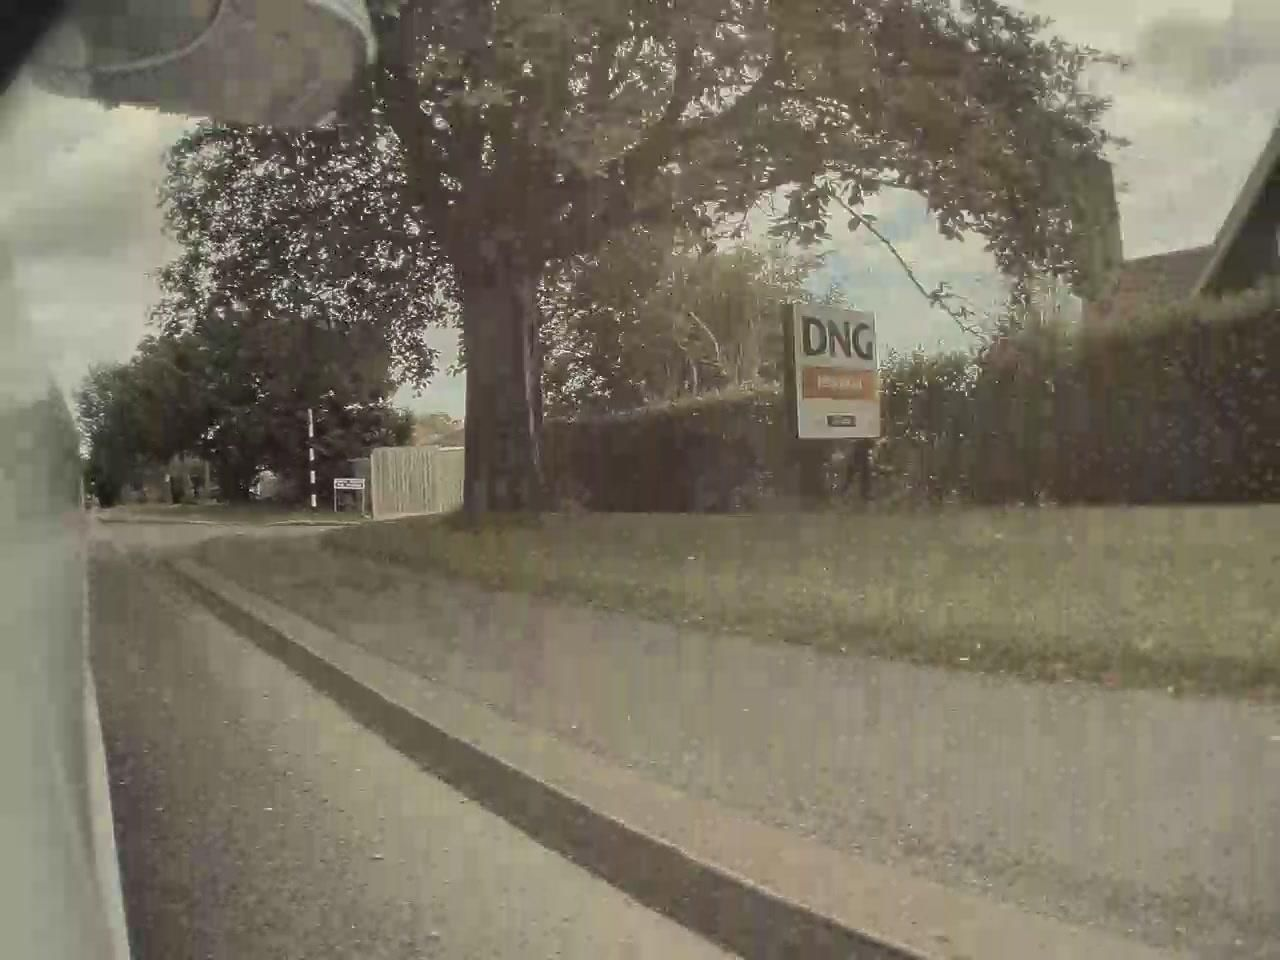property sign: (775, 288, 892, 450)
